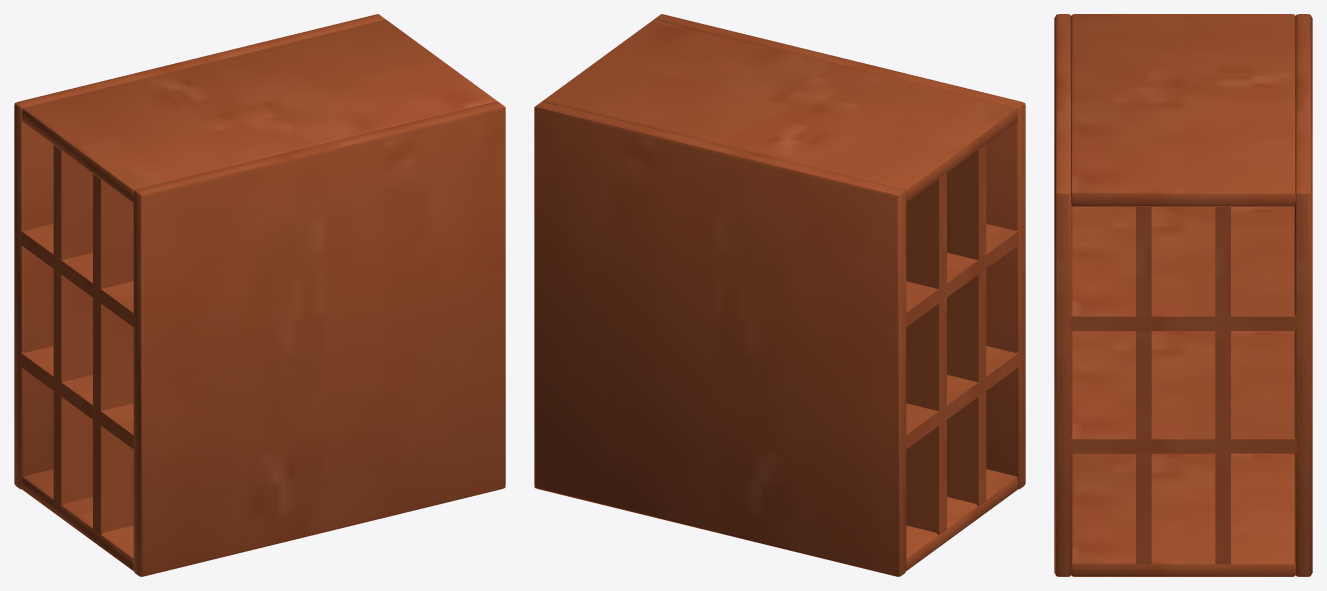
File: ALV-BLC-003_lod1.glb
3 views of the same model, side by side, from view 1: azimuth 30°, elevation 25°; view 2: azimuth 150°, elevation 25°; view 3: azimuth 270°, elevation 25° (orthographic).
Parts seen in each view (by area): view 1: ALV-BLC-003_pf1, ALV-BLC-003_pt, ALV-BLC-003_pf2, ALV-BLC-003_sv1, ALV-BLC-003_sv2, ALV-BLC-003_sh1, ALV-BLC-003_sh2, ALV-BLC-003_pb; view 2: ALV-BLC-003_pf2, ALV-BLC-003_pt, ALV-BLC-003_pf1, ALV-BLC-003_sv2, ALV-BLC-003_sv1, ALV-BLC-003_sh1, ALV-BLC-003_sh2, ALV-BLC-003_pb; view 3: ALV-BLC-003_pt, ALV-BLC-003_sh2, ALV-BLC-003_pb, ALV-BLC-003_sh1, ALV-BLC-003_pf1, ALV-BLC-003_pf2, ALV-BLC-003_sv2, ALV-BLC-003_sv1.
Boxes of the visible parts, left/top/right/bottom form: ALV-BLC-003_pf1: left=133, top=101, right=505, bottom=576; ALV-BLC-003_pt: left=22, top=19, right=497, bottom=202; ALV-BLC-003_pf2: left=14, top=14, right=385, bottom=489; ALV-BLC-003_sv1: left=93, top=173, right=133, bottom=535; ALV-BLC-003_sv2: left=53, top=145, right=92, bottom=506; ALV-BLC-003_sh1: left=21, top=346, right=133, bottom=448; ALV-BLC-003_sh2: left=21, top=224, right=133, bottom=326; ALV-BLC-003_pb: left=22, top=469, right=133, bottom=570; ALV-BLC-003_pf2: left=534, top=101, right=906, bottom=576; ALV-BLC-003_pt: left=542, top=19, right=1017, bottom=202; ALV-BLC-003_pf1: left=654, top=14, right=1025, bottom=489; ALV-BLC-003_sv2: left=906, top=173, right=946, bottom=535; ALV-BLC-003_sv1: left=947, top=145, right=986, bottom=506; ALV-BLC-003_sh1: left=906, top=346, right=1018, bottom=448; ALV-BLC-003_sh2: left=906, top=224, right=1018, bottom=326; ALV-BLC-003_pb: left=906, top=469, right=1017, bottom=570; ALV-BLC-003_pt: left=1071, top=14, right=1295, bottom=206; ALV-BLC-003_sh2: left=1070, top=206, right=1296, bottom=330; ALV-BLC-003_pb: left=1071, top=453, right=1295, bottom=576; ALV-BLC-003_sh1: left=1070, top=331, right=1296, bottom=453; ALV-BLC-003_pf1: left=1054, top=14, right=1072, bottom=576; ALV-BLC-003_pf2: left=1294, top=14, right=1312, bottom=576; ALV-BLC-003_sv2: left=1215, top=206, right=1230, bottom=564; ALV-BLC-003_sv1: left=1136, top=206, right=1151, bottom=564.
Size of the model in its own units: 0.19 by 0.19 by 0.115.
Materials: 1 (1 with a texture image).
